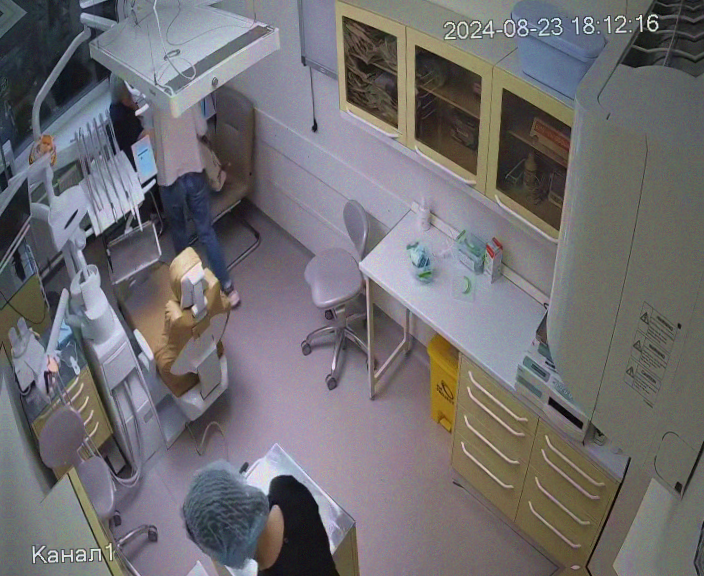Empty: (104, 244, 237, 427)
